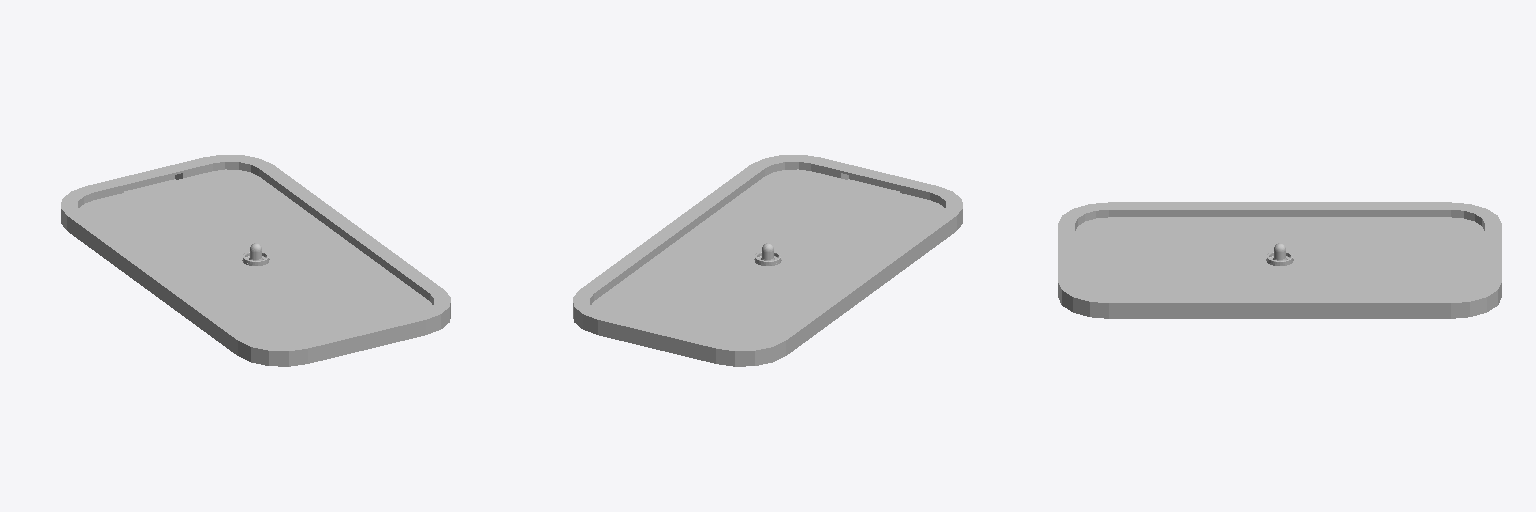
3 renders of one model, left to right at view 1: azimuth 30°, elevation 25°; view 2: azimuth 150°, elevation 25°; view 3: azimuth 270°, elevation 25°, orthographic.
Parts seen in each view (by area): view 1: Table; view 2: Table; view 3: Table.
Boxes of the visible parts, box(x1,y1,x2,y2) form: Table: box(61, 155, 450, 366); Table: box(573, 155, 962, 366); Table: box(1058, 202, 1501, 318).
Bounding box in the file's own units: 1.4 × 0.1604 × 2.6.